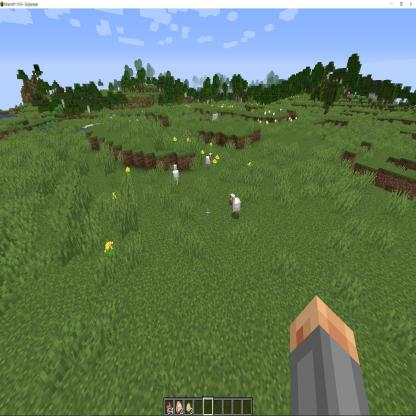minecraft-pigs: (229, 194, 242, 217), (173, 162, 181, 187), (206, 154, 213, 168)
